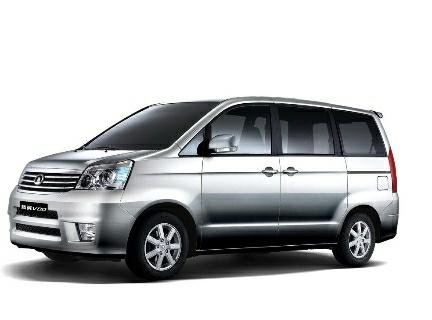car: (7, 91, 403, 283)
